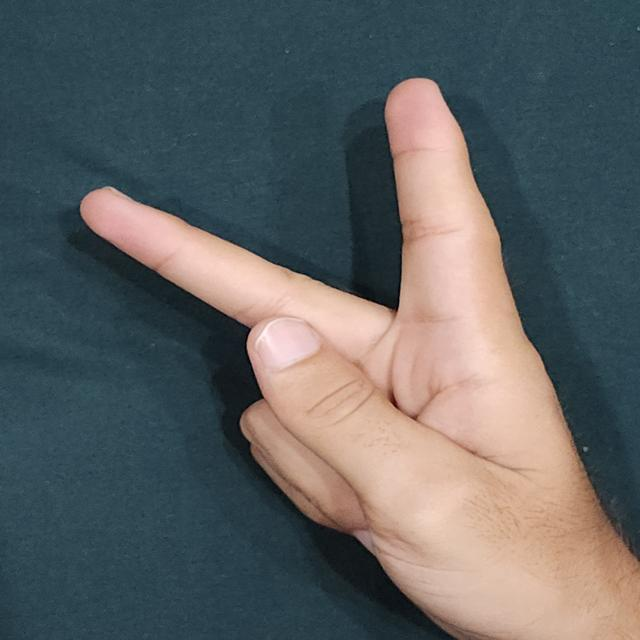چ: (51, 74, 566, 572)
